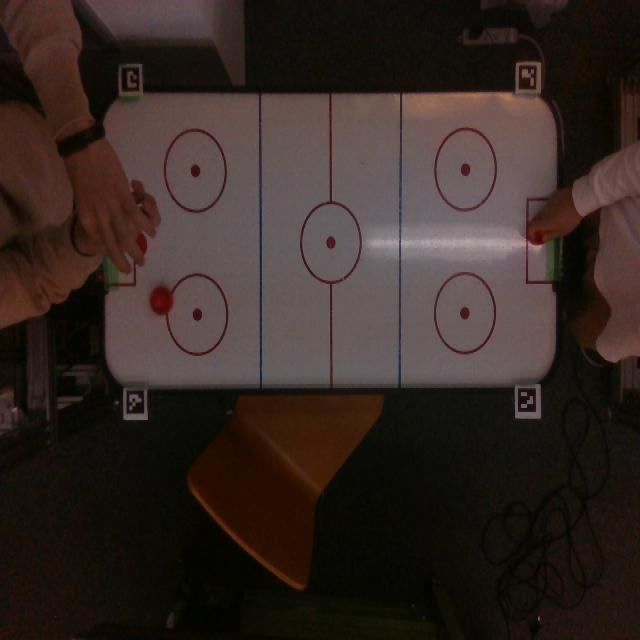puck: (125, 229, 153, 262)
